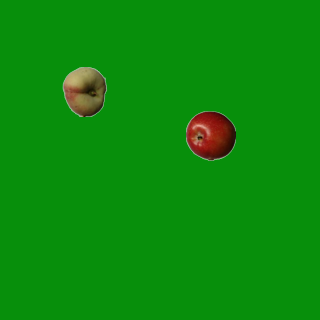Apple Braeburn: (185, 110, 235, 160)
Peach Flat: (59, 66, 109, 116)
